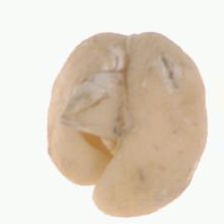L1: (59, 75, 137, 143), (49, 152, 110, 208)
L2: (46, 30, 208, 218)
